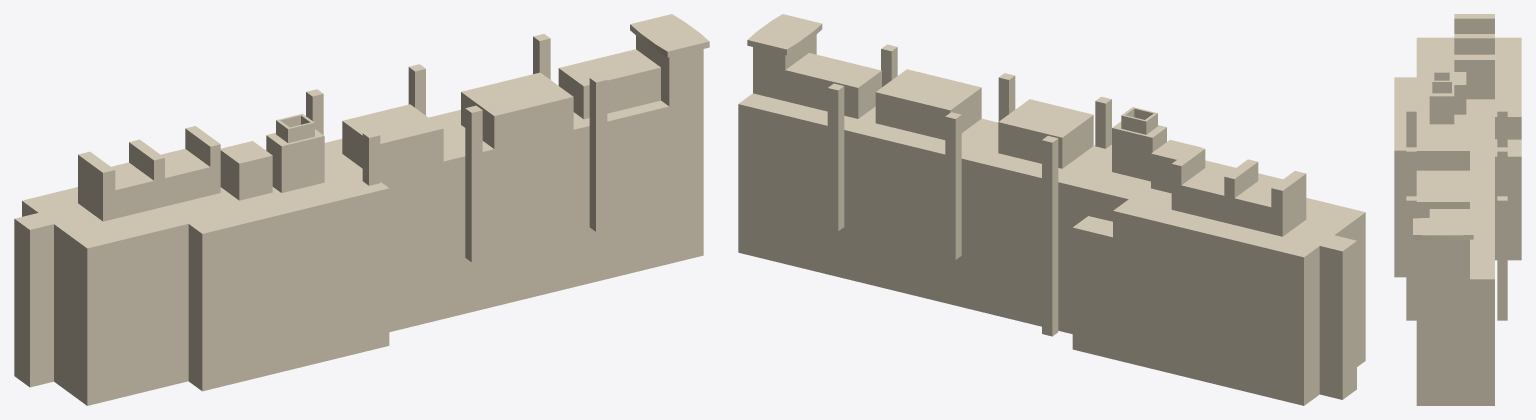
Rendered from SM_Sir_Ernst_Chain_Chemistry_Building.fbx.
The picture shows the model from 3 angles, left to right: view 1: azimuth 30°, elevation 25°; view 2: azimuth 150°, elevation 25°; view 3: azimuth 270°, elevation 25°; orthographic projection. The views are drawn at different scales.
Visible parts, largest first — view 1: SM_Sir_Ernst_Chain_Chemistry_Building; view 2: SM_Sir_Ernst_Chain_Chemistry_Building; view 3: SM_Sir_Ernst_Chain_Chemistry_Building.
Boxes of the visible parts, x1=… form: SM_Sir_Ernst_Chain_Chemistry_Building: x1=14, y1=14, x2=709, y2=405; SM_Sir_Ernst_Chain_Chemistry_Building: x1=738, y1=14, x2=1365, y2=405; SM_Sir_Ernst_Chain_Chemistry_Building: x1=1394, y1=14, x2=1521, y2=405.
Bounding box in the file's own units: 122 × 39.54 × 26.02.
